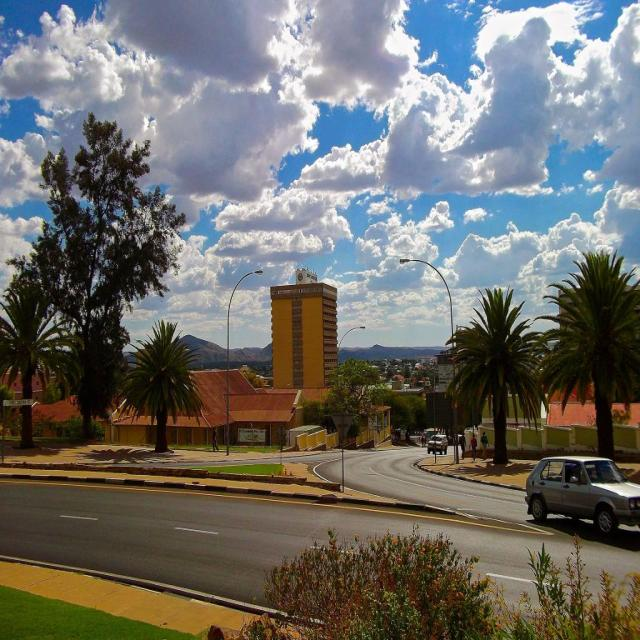car: (429, 433, 446, 454)
